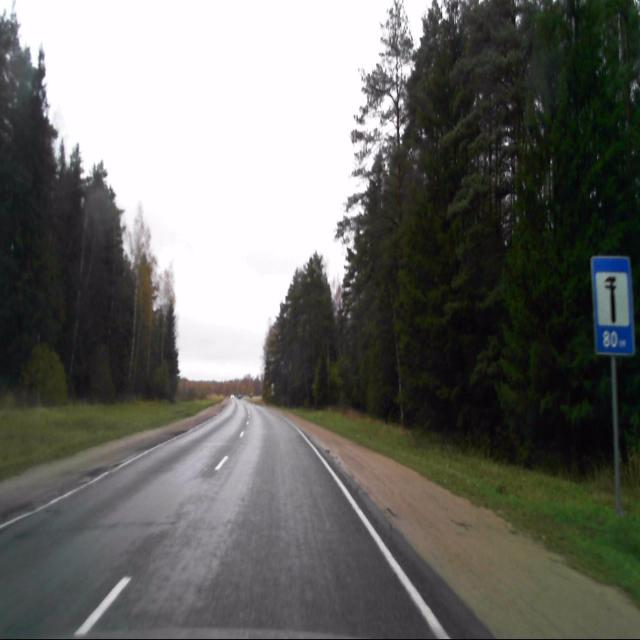road sign: (592, 258, 636, 356), (610, 355, 621, 521)
